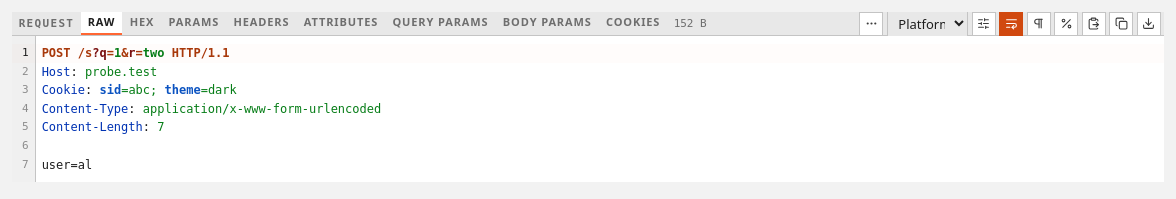
what a tab writes is an added item, through the message writers › the Add button stays disabled for an empty name
Click the tab "Cookies". click: (633, 24)
box: [599,12,667,35]
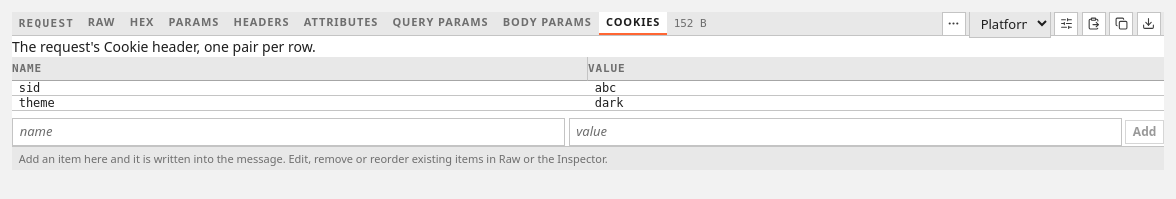
Expected: the button "Add" is disabled, [1125,120,1164,144]
